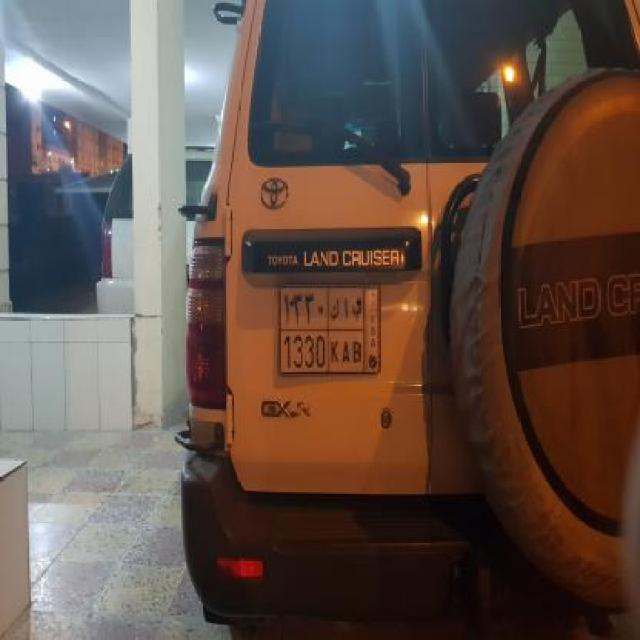license_plate: (277, 283, 381, 379)
